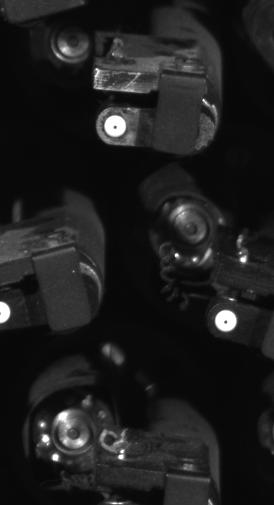fiber: (211, 306, 243, 337), (99, 111, 130, 142), (1, 297, 17, 326)
